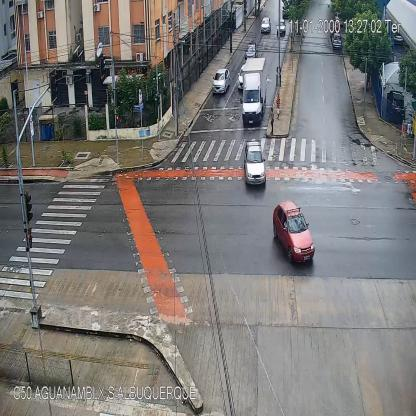car: (274, 200, 313, 266), (244, 140, 266, 188), (212, 68, 230, 94), (244, 43, 257, 61), (332, 34, 342, 50), (260, 17, 270, 33), (277, 21, 285, 35)
person: (276, 92, 281, 119), (270, 108, 274, 134)
truck: (240, 59, 267, 125)
